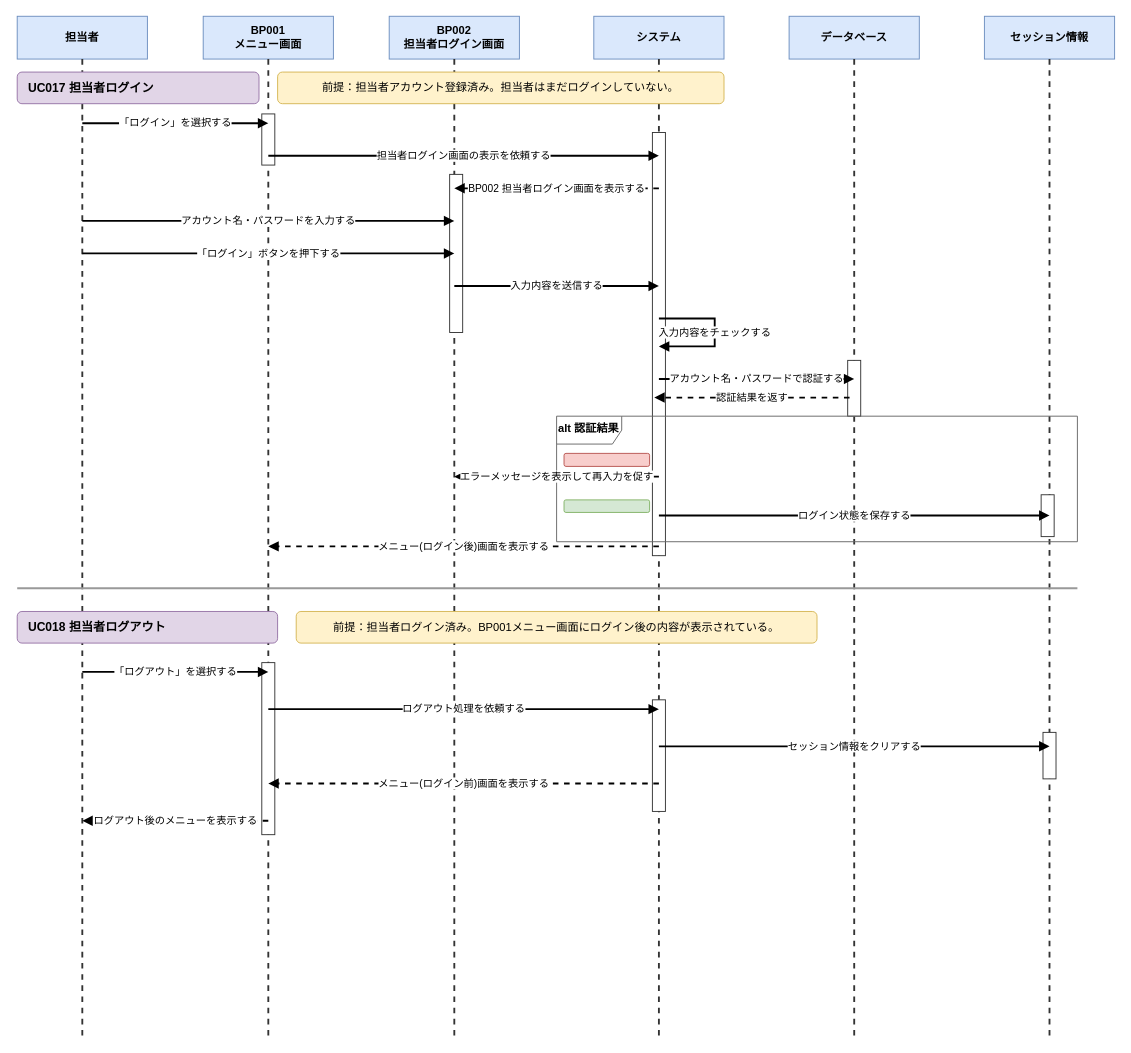
Some shapes in this 1131 by 1053 pixel diagram are drawn without their labels. Each missing label, with the box of its shape:
認証失敗の場合: (563, 452, 650, 466)
認証成功の場合: (563, 499, 650, 512)
